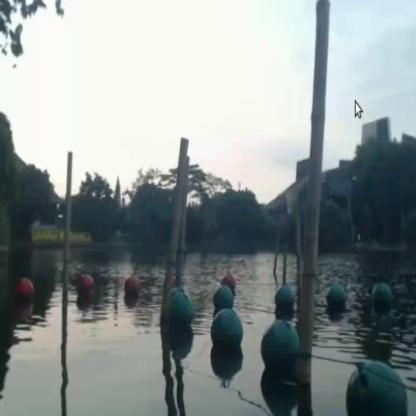green_buoy: (342, 360, 406, 415), (260, 321, 299, 379), (210, 306, 244, 357), (167, 294, 191, 338), (372, 284, 394, 316), (326, 285, 346, 318), (274, 289, 292, 316), (212, 285, 234, 303)
red_buoy: (16, 277, 36, 309), (73, 271, 89, 302), (124, 274, 139, 300), (221, 273, 236, 285)
